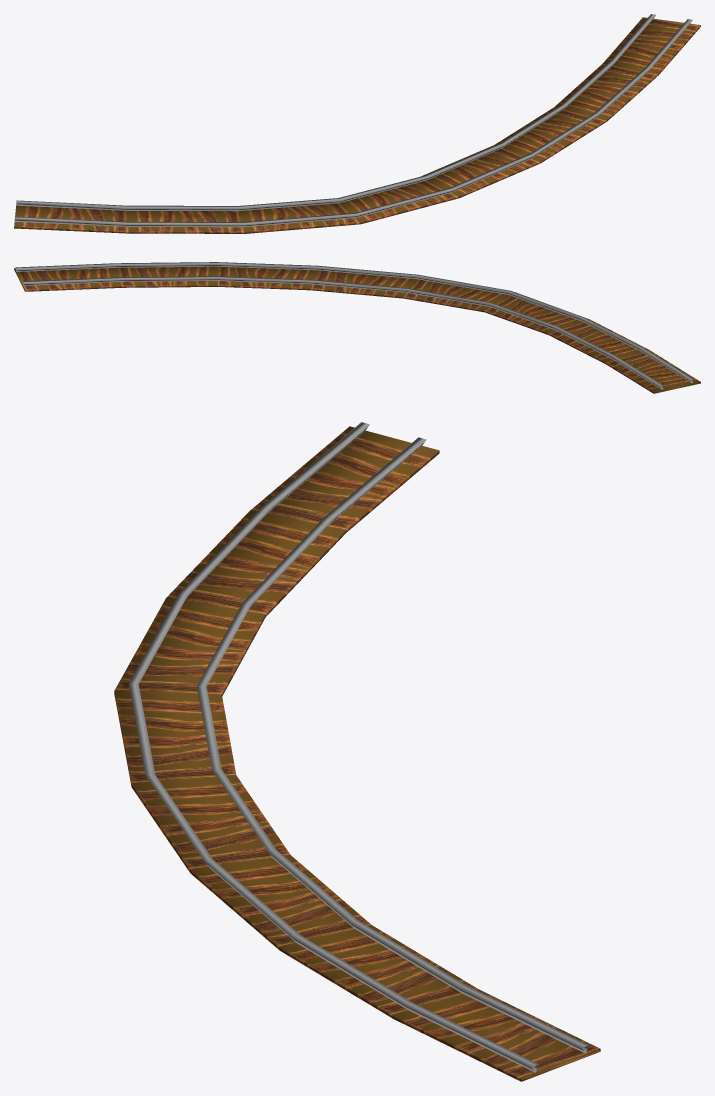
The model's file is SWORDLIGHT20_TRACK10.fbx.
The picture shows the model from 3 angles, top to bottom: view 1: azimuth 30°, elevation 25°; view 2: azimuth 150°, elevation 25°; view 3: azimuth 270°, elevation 25°; orthographic projection. The views are drawn at different scales.
Parts seen in each view (by area): view 1: SWORDLIGHT20_TRACK10; view 2: SWORDLIGHT20_TRACK10; view 3: SWORDLIGHT20_TRACK10.
Part boxes in pixels (x1,y1,x2,y2): SWORDLIGHT20_TRACK10: [14, 14, 700, 233]; SWORDLIGHT20_TRACK10: [14, 262, 700, 393]; SWORDLIGHT20_TRACK10: [114, 422, 600, 1081].
Bounding box in the file's own units: 226504 × 7344 × 74077.
Materials: 2 (2 with a texture image).
